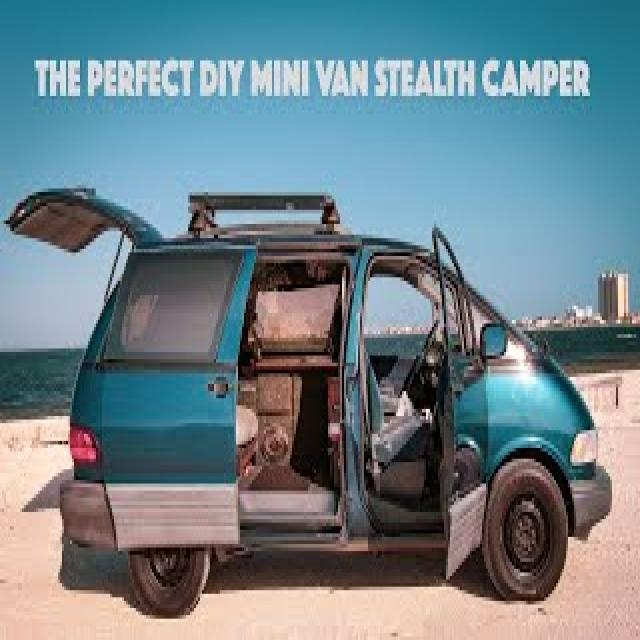Van: (34, 196, 608, 615)
